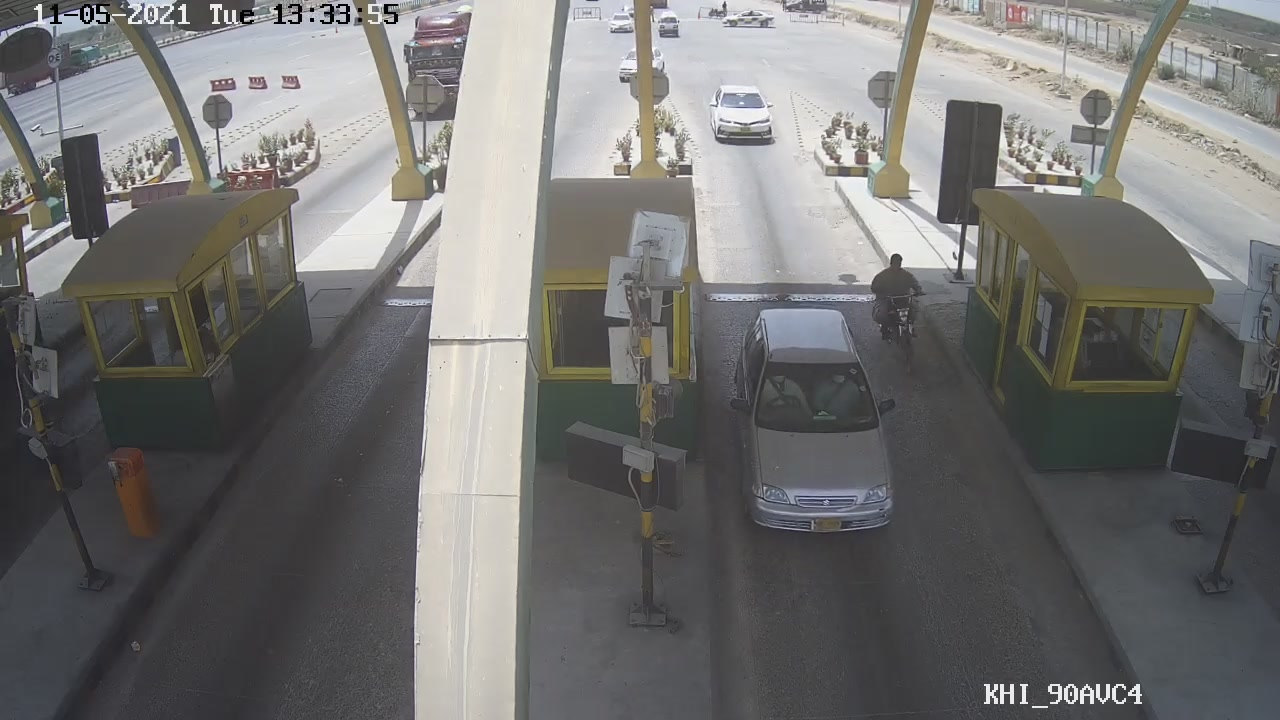F1: (727, 301, 905, 543)
